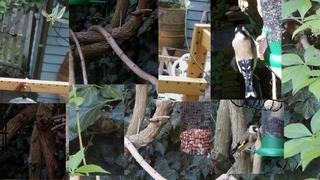goldfinch: (232, 24, 257, 99), (229, 124, 260, 156)
